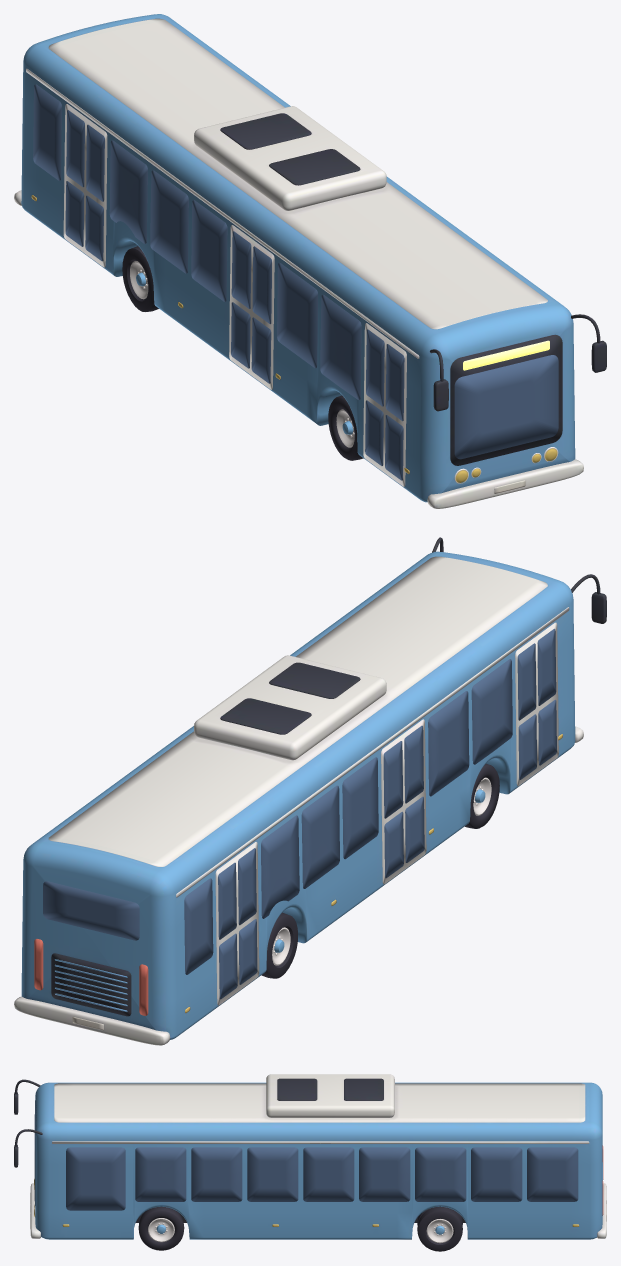
File: city-bus.glb
3 views of the same model, one above another, from view 1: azimuth 30°, elevation 25°; view 2: azimuth 150°, elevation 25°; view 3: azimuth 270°, elevation 25° (orthographic). The views are drawn at different scales.
Visible parts, largest first — view 1: city-bus_body, city-bus_windows, city-bus_door_windows, city-bus_wheel_rr, city-bus_wheel_fr, city-bus_destination_display; view 2: city-bus_body, city-bus_windows, city-bus_door_windows, city-bus_wheel_rr, city-bus_wheel_fr, city-bus_taillights; view 3: city-bus_body, city-bus_windows, city-bus_wheel_rl, city-bus_wheel_fl.
Boxes of the visible parts, x1,y1,x2,y2 form: city-bus_body: (14, 14, 606, 508); city-bus_windows: (33, 84, 558, 459); city-bus_door_windows: (65, 110, 404, 480); city-bus_wheel_rr: (122, 246, 158, 311); city-bus_wheel_fr: (328, 395, 363, 460); city-bus_destination_display: (463, 340, 549, 370); city-bus_body: (14, 537, 606, 1045); city-bus_windows: (43, 659, 512, 974); city-bus_door_windows: (218, 628, 556, 999); city-bus_wheel_rr: (261, 912, 297, 978); city-bus_wheel_fr: (465, 763, 499, 828); city-bus_taillights: (34, 939, 148, 1015); city-bus_body: (14, 1074, 606, 1239); city-bus_windows: (34, 1114, 578, 1210); city-bus_wheel_rl: (417, 1206, 462, 1251); city-bus_wheel_fl: (138, 1206, 184, 1250).
Size of the model in its own units: 2.84 by 3.22 by 12.45.
3 materials, 3 textured.
